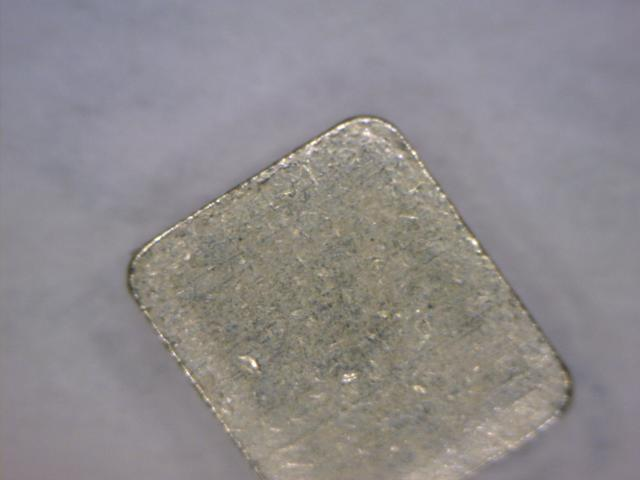ok: (119, 107, 582, 475)
